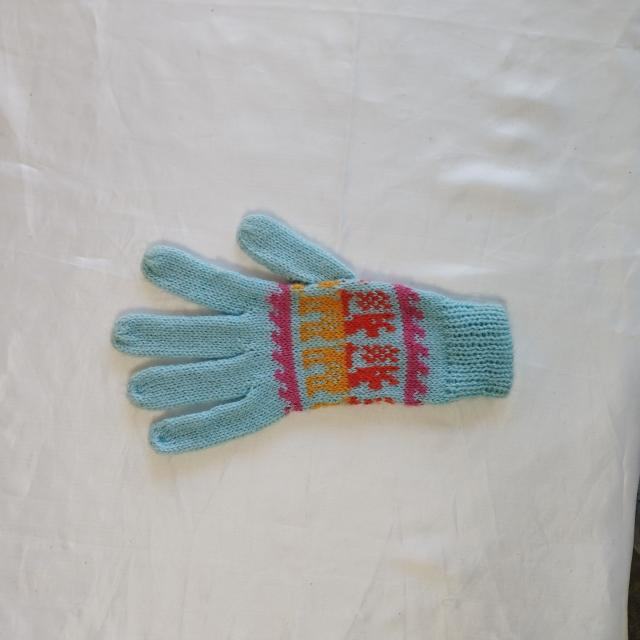Guante: (110, 212, 515, 455)
